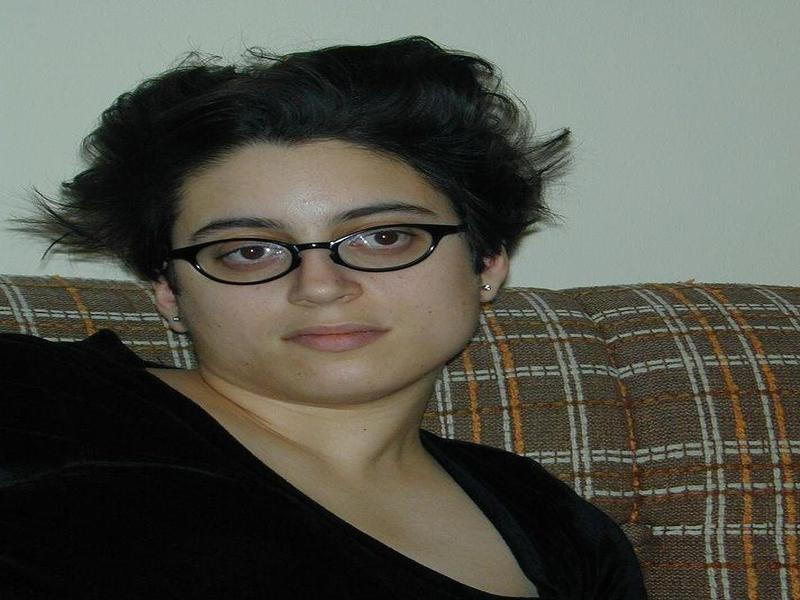person: (1, 41, 649, 600)
